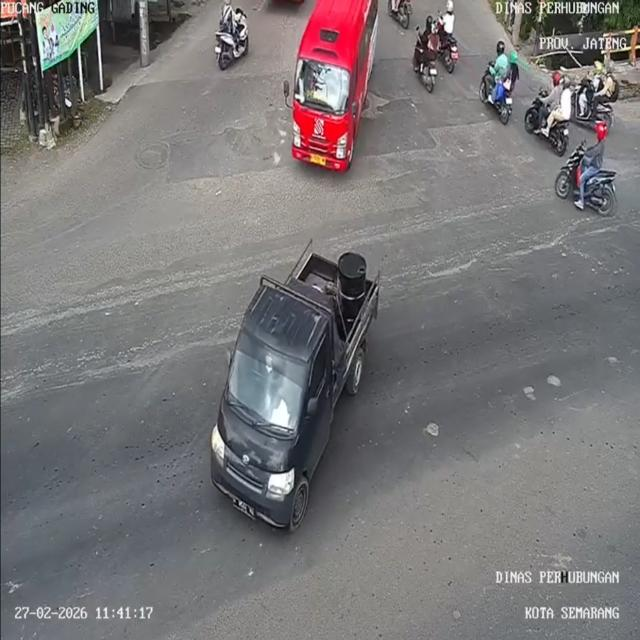motorcycle: (555, 143, 618, 220), (522, 90, 568, 157), (478, 61, 516, 126), (574, 81, 613, 130), (215, 20, 252, 69), (413, 44, 438, 92), (438, 32, 459, 75), (388, 0, 413, 30)
person: (572, 120, 606, 208), (535, 72, 562, 135), (593, 59, 620, 118), (546, 77, 571, 136), (219, 1, 244, 52), (486, 42, 507, 102), (581, 62, 603, 119), (420, 22, 439, 72), (505, 52, 519, 94), (439, 2, 455, 36), (416, 16, 430, 54)
rider_region: (551, 116, 625, 223), (526, 69, 572, 157), (574, 59, 620, 135), (479, 38, 519, 125), (211, 0, 250, 72), (414, 15, 439, 96), (441, 0, 460, 78)
